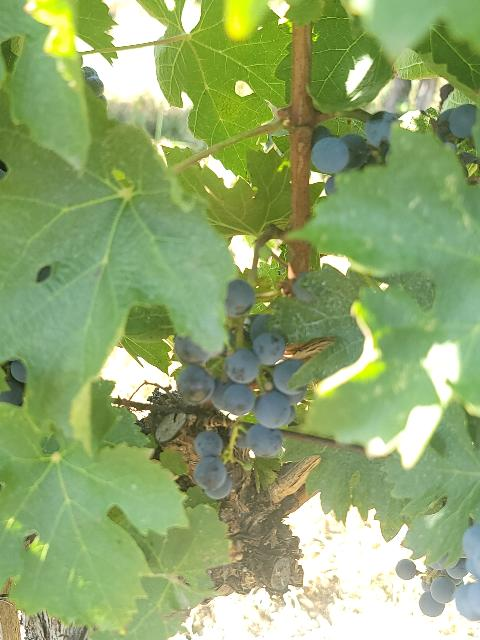grapes: (175, 279, 306, 461)
